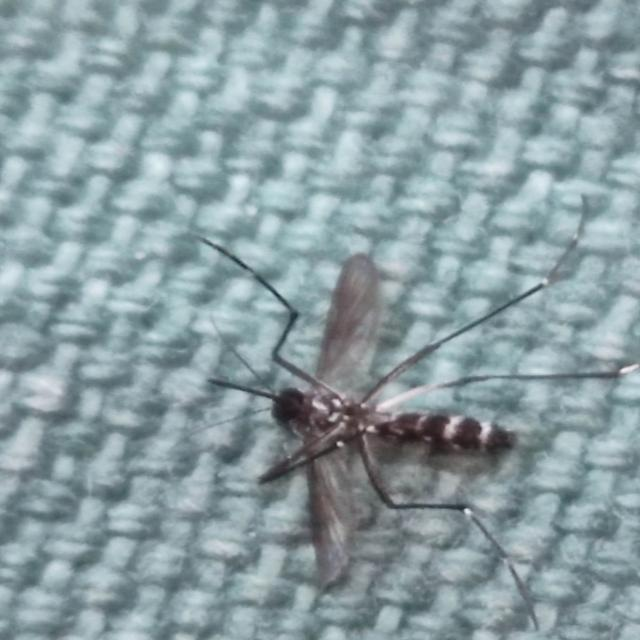albopictus: (158, 228, 622, 589)
